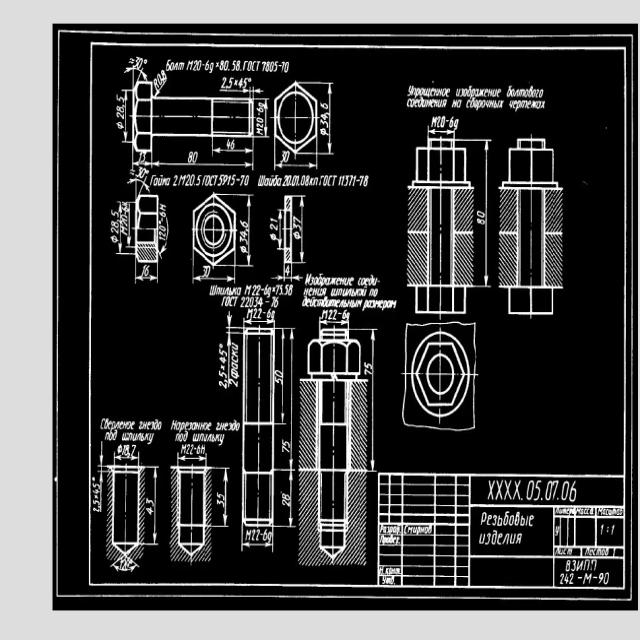marking_line: (370, 329, 379, 474), (484, 140, 492, 286), (152, 160, 252, 168), (289, 328, 293, 470), (328, 84, 335, 153), (281, 328, 286, 424), (99, 442, 105, 513), (275, 160, 316, 170), (124, 67, 149, 83), (128, 178, 151, 195), (153, 467, 158, 544), (319, 318, 351, 329), (300, 196, 305, 262), (425, 130, 460, 139), (227, 311, 231, 389), (224, 468, 229, 527), (289, 470, 294, 527), (213, 148, 252, 155), (245, 318, 274, 326), (154, 84, 171, 97), (179, 455, 205, 463), (118, 202, 122, 254), (243, 542, 272, 549), (112, 566, 137, 574), (278, 211, 283, 250), (127, 203, 131, 247), (158, 243, 168, 260), (271, 276, 303, 281), (137, 276, 158, 282), (133, 161, 150, 166)
numeric: (431, 115, 463, 129), (255, 103, 264, 138), (92, 481, 101, 514), (109, 207, 119, 235), (115, 95, 126, 120), (219, 74, 235, 89), (319, 104, 329, 128), (240, 220, 249, 246), (476, 206, 485, 229), (155, 66, 166, 84), (136, 167, 149, 181), (217, 372, 228, 388), (280, 491, 290, 508), (214, 492, 224, 508), (187, 149, 198, 163), (280, 440, 290, 455), (125, 444, 137, 456), (268, 216, 278, 230), (225, 139, 237, 150), (328, 310, 339, 322), (136, 151, 148, 162), (293, 215, 301, 231), (159, 204, 167, 220), (159, 225, 166, 243), (146, 497, 153, 515), (365, 359, 372, 376), (276, 369, 283, 386), (239, 76, 248, 89), (142, 264, 151, 277), (121, 212, 127, 231), (135, 56, 143, 70), (202, 265, 211, 276), (119, 560, 130, 569), (252, 530, 260, 542), (254, 308, 262, 320), (218, 351, 226, 362), (285, 265, 290, 276)
special_symbol: (193, 275, 234, 283), (320, 127, 330, 139), (267, 234, 278, 244), (115, 120, 125, 130), (292, 230, 301, 241), (109, 234, 118, 244), (239, 246, 249, 255), (117, 445, 124, 454), (128, 57, 134, 66), (217, 342, 223, 350), (247, 76, 253, 83), (143, 58, 148, 66), (220, 363, 225, 371), (91, 476, 97, 482)
